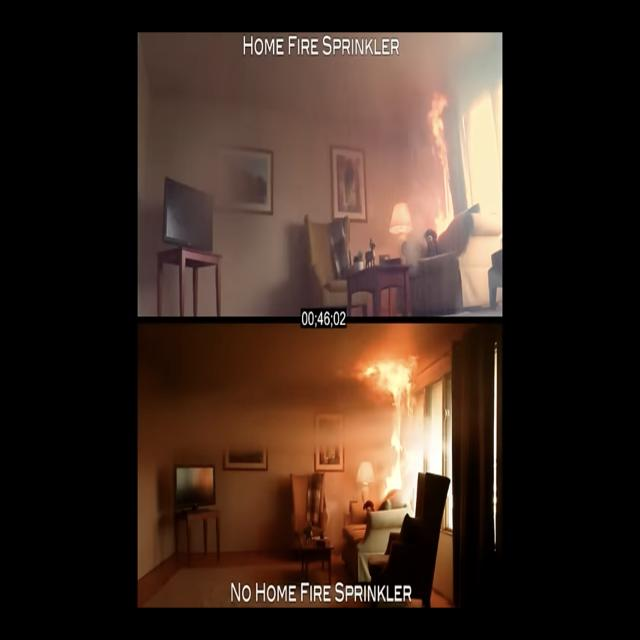Fogo: (349, 342, 452, 528), (410, 75, 474, 262)
